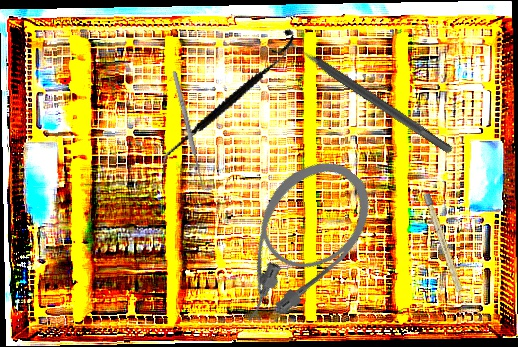Cannula: (200, 142, 390, 342)
Fixation Ring: (269, 25, 461, 165)
Hook Surgical: (170, 69, 212, 193)
Scalpel Handle: (422, 192, 469, 307)
Spatula Surgical: (159, 13, 295, 198)
